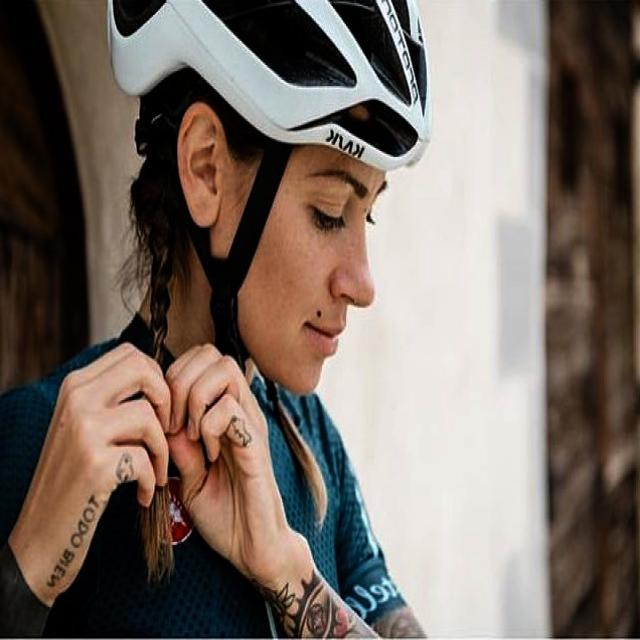helmet: (109, 0, 430, 169)
